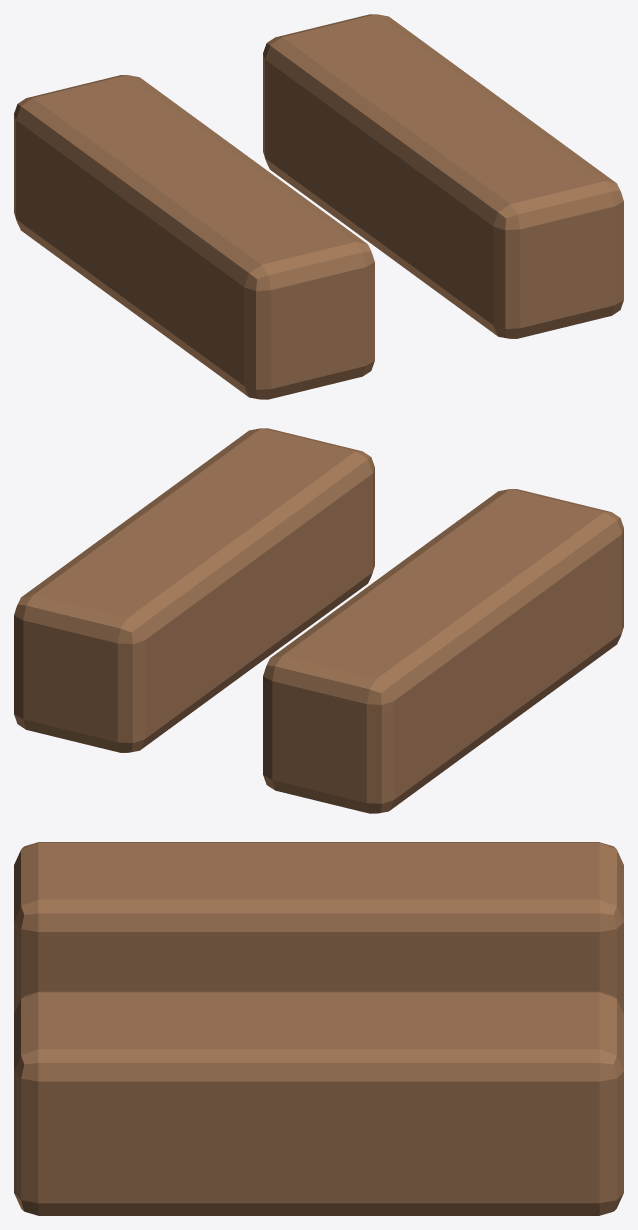
File: SM_UI_PauseIcon.fbx
The picture shows the model from 3 angles, top to bottom: view 1: azimuth 30°, elevation 25°; view 2: azimuth 150°, elevation 25°; view 3: azimuth 270°, elevation 25°; orthographic projection. The views are drawn at different scales.
Visible parts, largest first — view 1: SM_UI_PauseIcon; view 2: SM_UI_PauseIcon; view 3: SM_UI_PauseIcon.
Boxes of the visible parts, x1,y1,x2,y2 form: SM_UI_PauseIcon: (14,14,623,399); SM_UI_PauseIcon: (14,428,623,813); SM_UI_PauseIcon: (14,842,623,1215).
Size of the model in its own units: 0.44 by 0.15 by 0.5.
